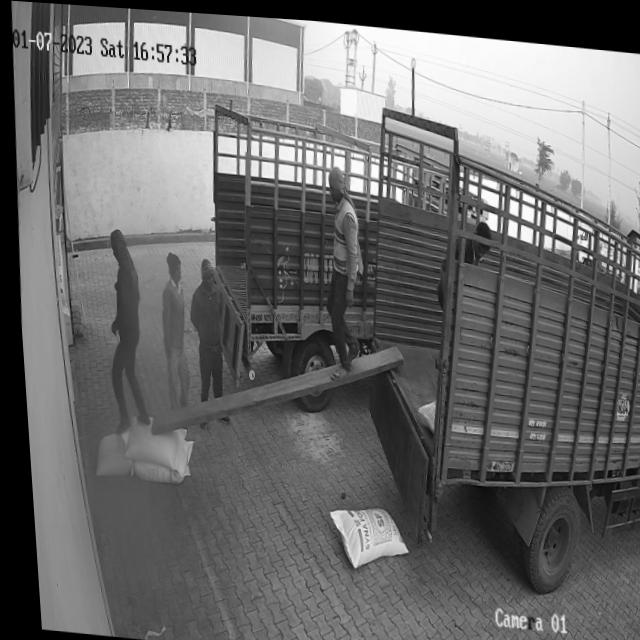sack: (318, 497, 403, 568), (121, 431, 190, 483), (116, 418, 182, 468), (86, 427, 129, 477)
